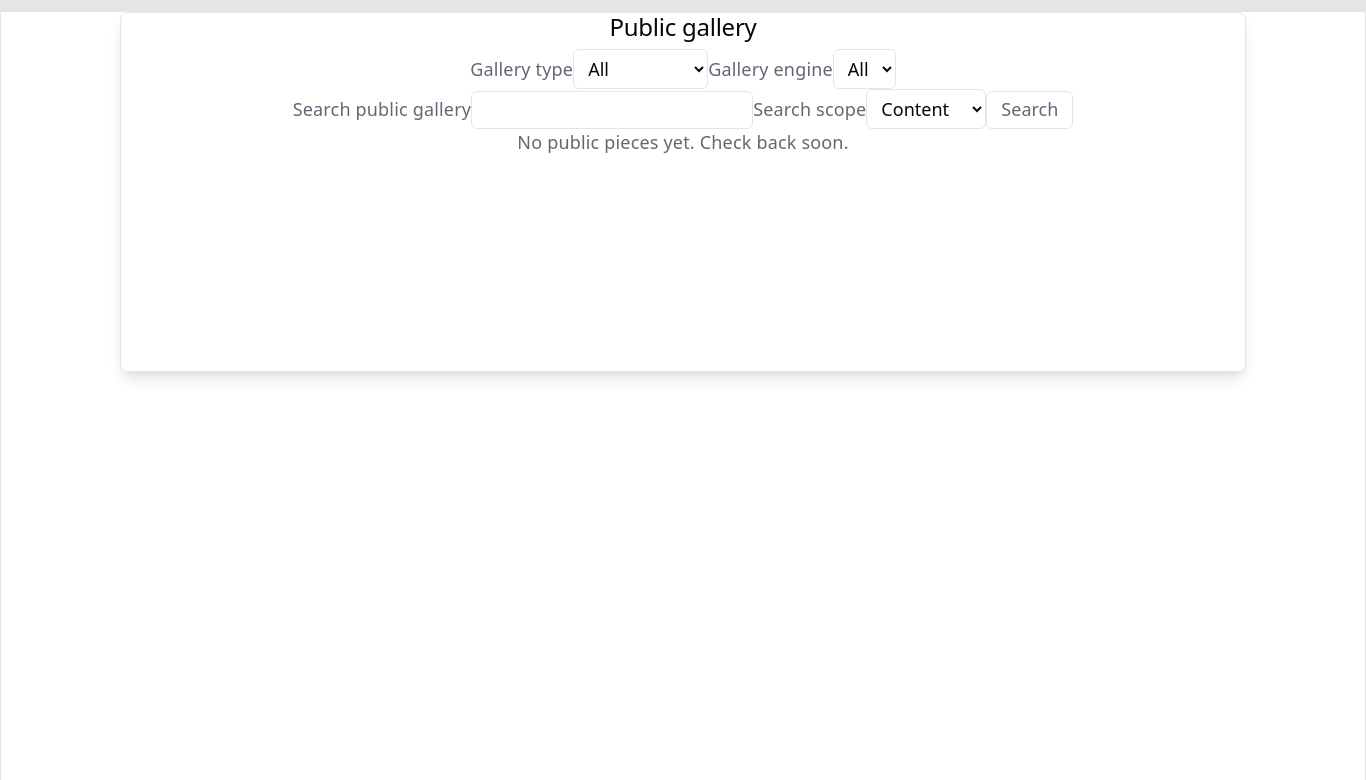
Test: PublicGallery search (#581) › switches to the Accounts scope and renders account results
Select "Accounts" in the dropdown labelled "Search scope": (926, 109) [866,89,986,129]
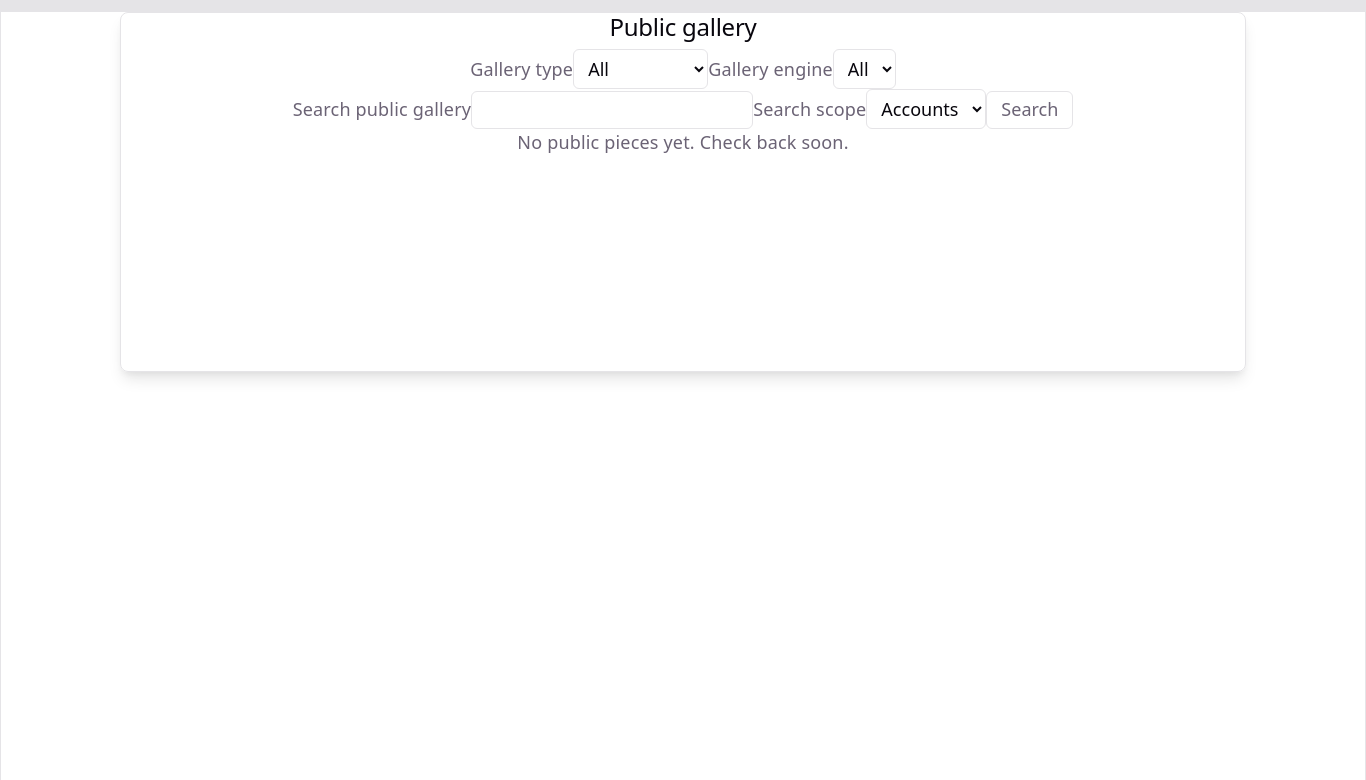
In the search field labelled "Search public gallery": (612, 110) [471,91,753,129], type "artist"
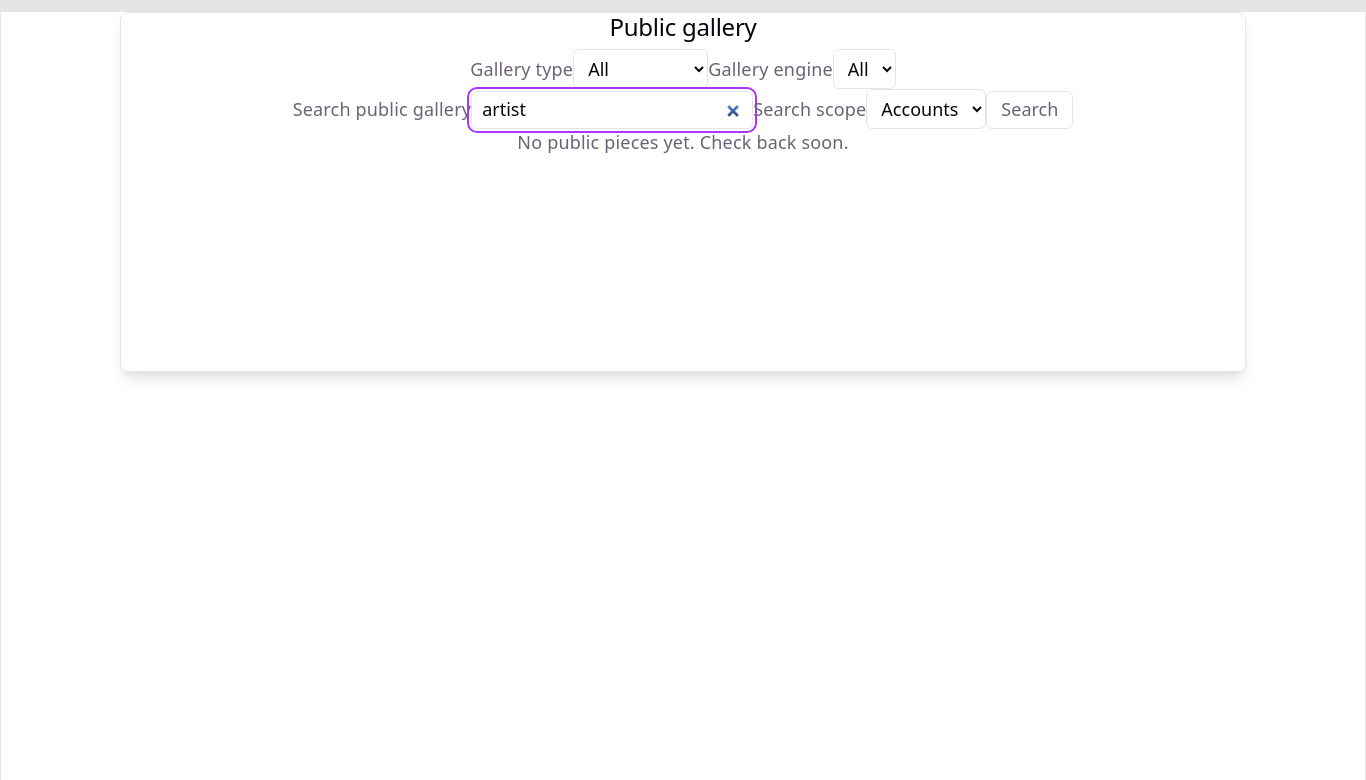
Click the button "Search": (1030, 110) [986,91,1073,129]
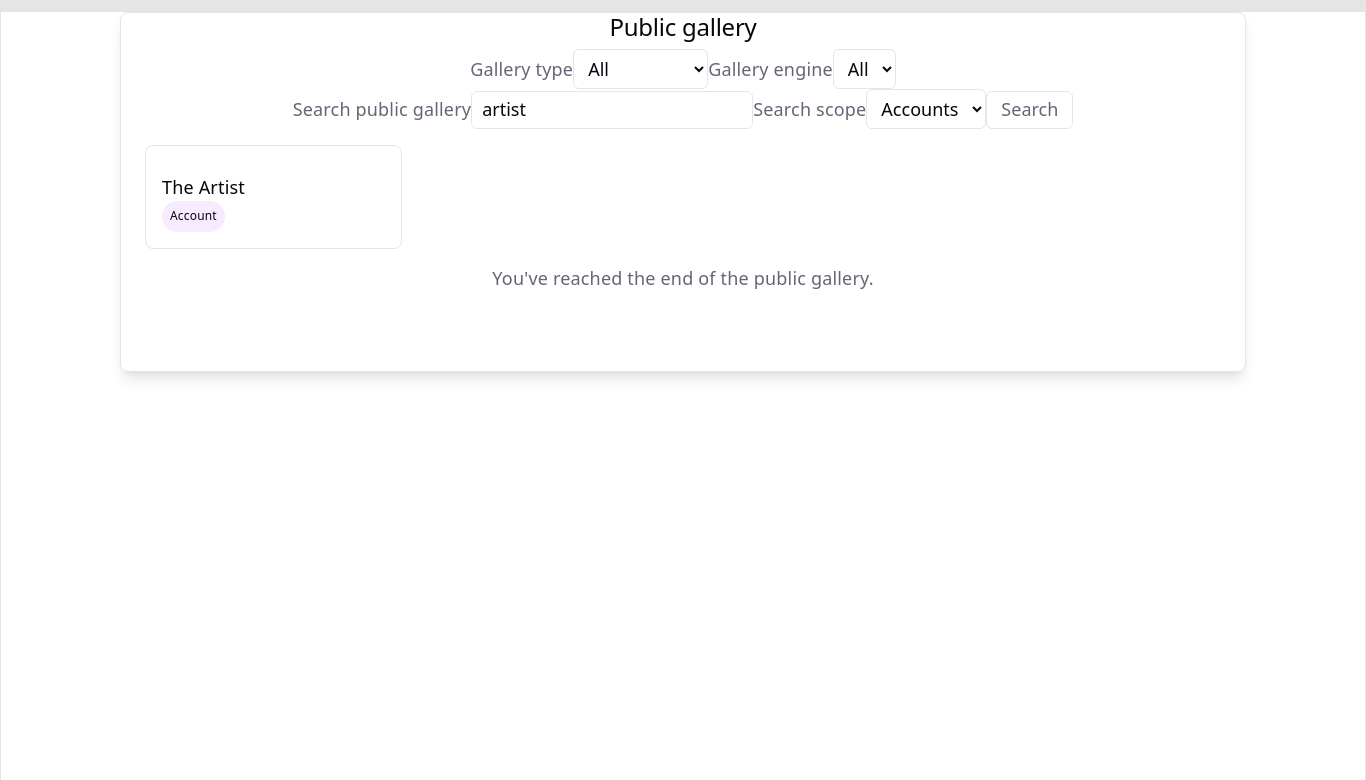
Result: the heading "The Artist" is shown at [162,175,245,199]
